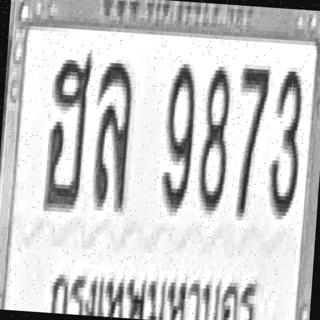A36: (89, 56, 135, 210)
A44: (42, 49, 93, 211)
N03: (266, 66, 304, 216)
N07: (232, 64, 270, 218)
N08: (195, 62, 232, 215)
N09: (160, 59, 198, 213)
